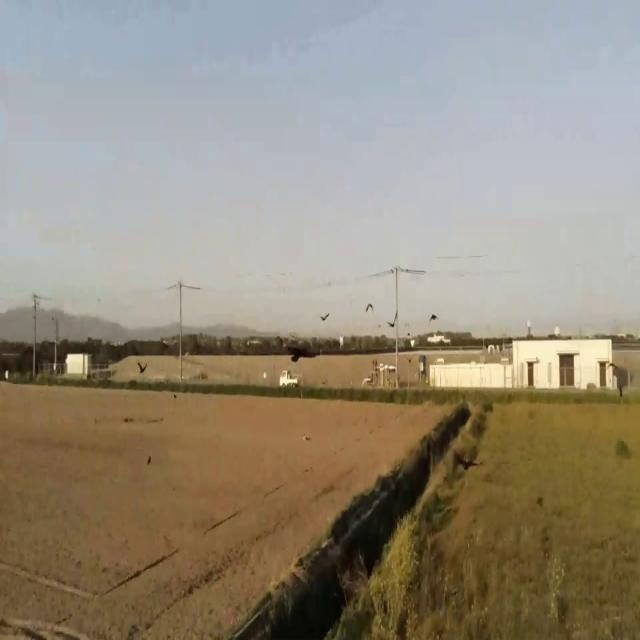bird: (388, 306, 398, 334), (319, 306, 330, 328), (429, 306, 439, 326), (365, 298, 374, 316), (139, 358, 147, 376), (146, 451, 152, 469)
